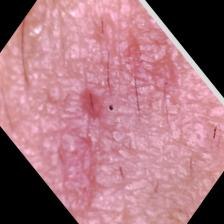Dry: (0, 0, 223, 222)
